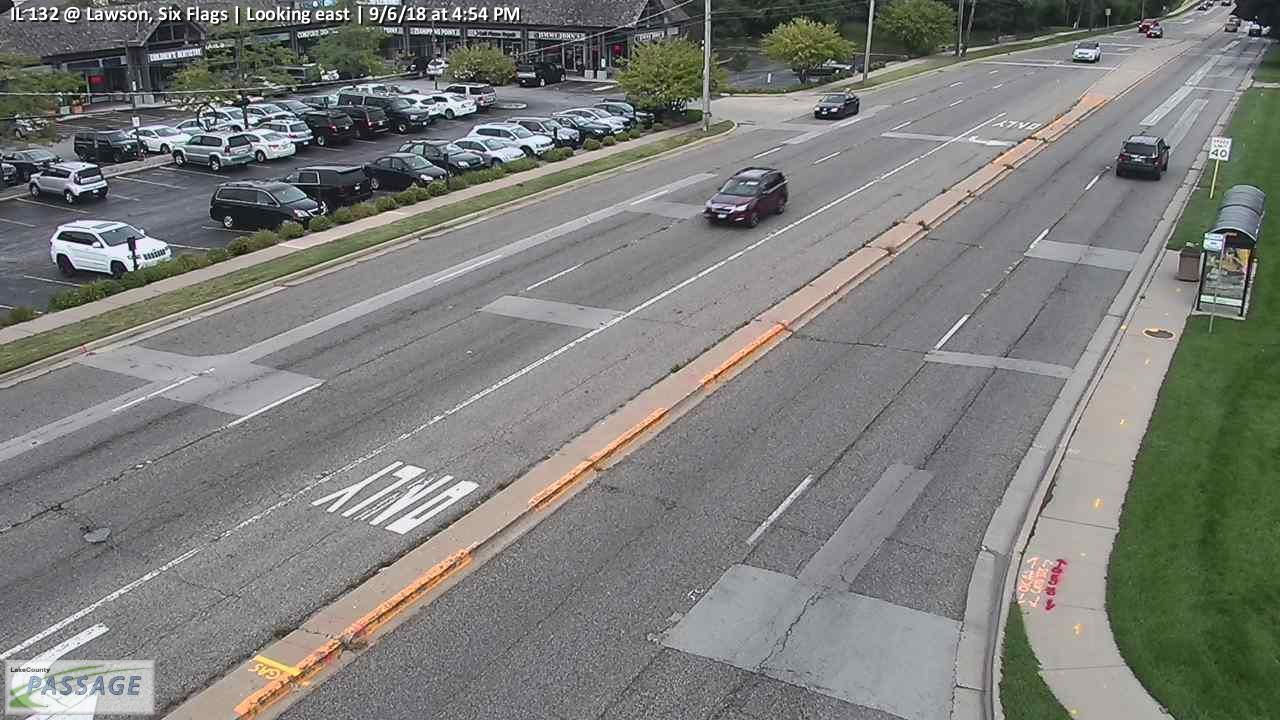SUV: (51, 219, 172, 278), (210, 179, 330, 228), (704, 167, 789, 228), (277, 162, 373, 208), (337, 92, 431, 134), (28, 161, 108, 204), (465, 121, 555, 158), (396, 139, 484, 176), (174, 131, 253, 171), (501, 116, 580, 149), (1116, 134, 1171, 180), (319, 106, 390, 139), (73, 129, 141, 163), (295, 110, 353, 145), (251, 119, 315, 149), (544, 113, 611, 141), (381, 94, 440, 124), (196, 106, 259, 134), (814, 87, 859, 119), (231, 104, 297, 125), (265, 66, 314, 93), (263, 100, 316, 121), (1071, 40, 1102, 62), (1137, 18, 1160, 32)
Sedan: (360, 152, 451, 188), (448, 137, 526, 169), (230, 128, 297, 162), (550, 108, 624, 137), (1, 148, 63, 181), (125, 124, 193, 153), (440, 81, 496, 112), (419, 93, 477, 120), (515, 60, 568, 88), (170, 116, 231, 138), (1147, 26, 1163, 38)
